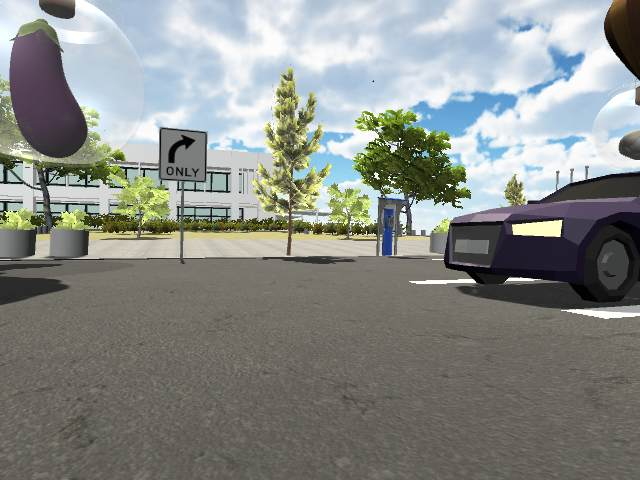arrow_right: (164, 133, 201, 165)
